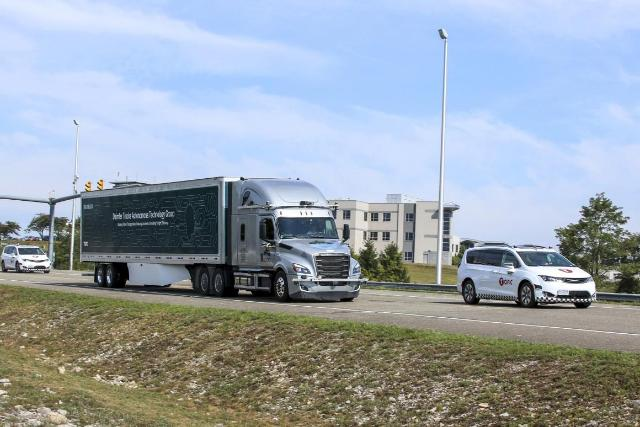car: (454, 235, 598, 313), (0, 243, 52, 274)
truck: (67, 170, 372, 309)
